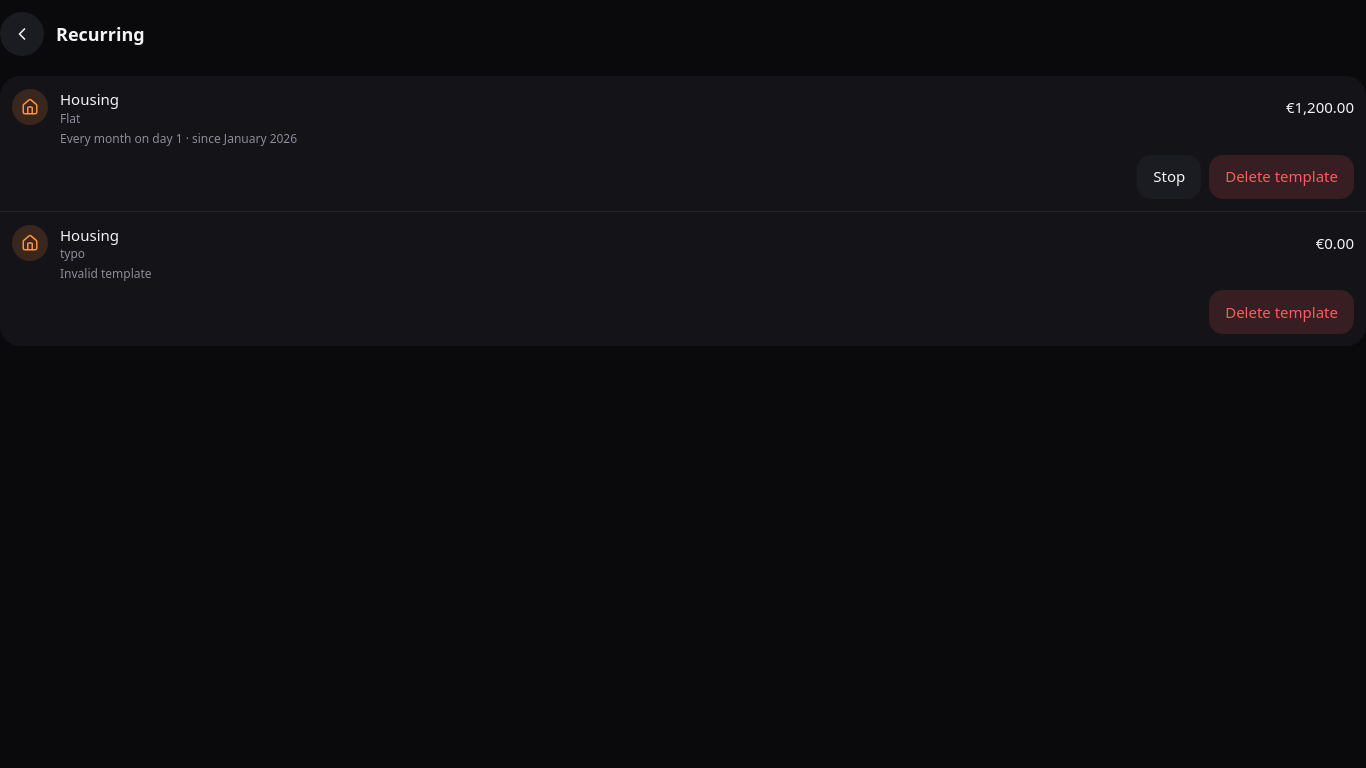
Test: RecurringPage › marks a template it cannot use as invalid and offers only Delete, without an Undo the rules would refuse
Expected: the text "Invalid template" is shown, [60,265,152,282]
Click the button with aria-label "Delete template Housing (typo)" at [1282, 312], box [1209,290,1354,334]
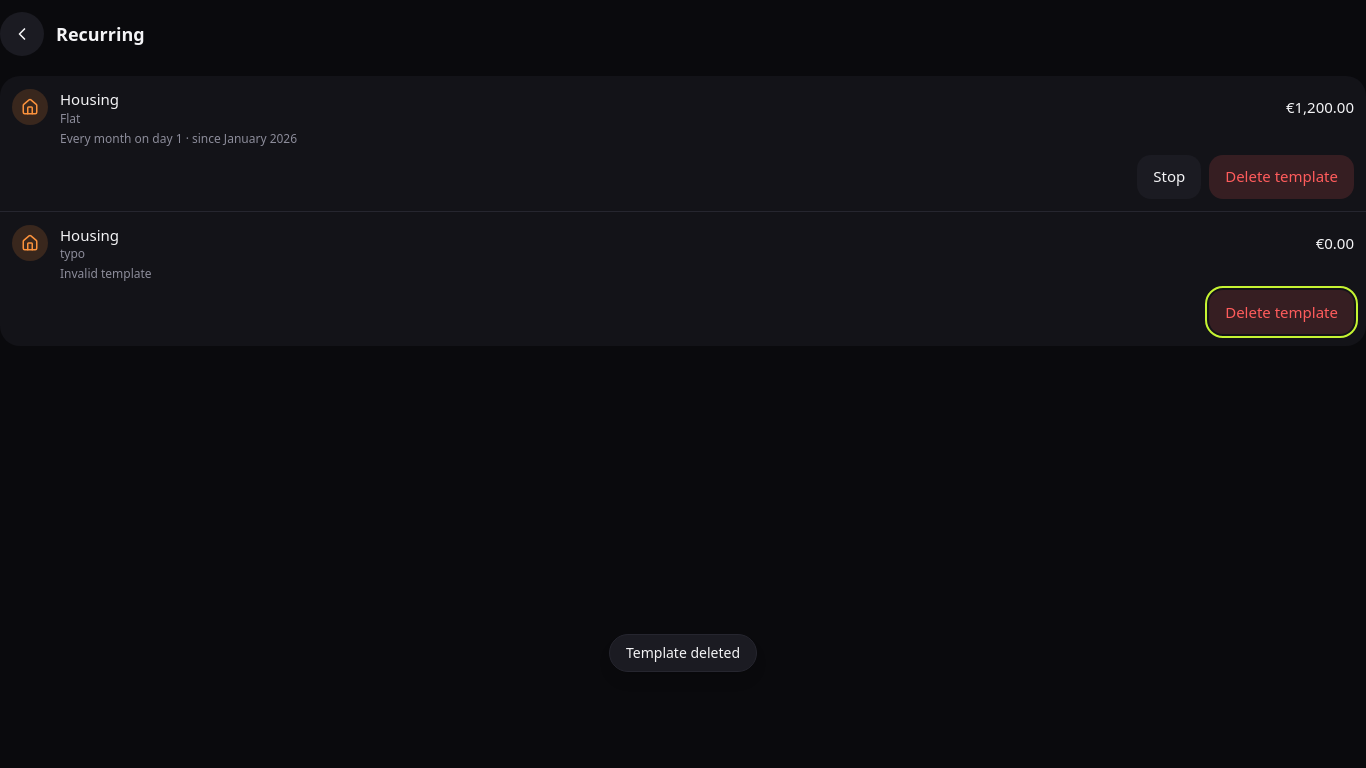
Expected: the message reads "Template deleted", [626,643,740,662]
